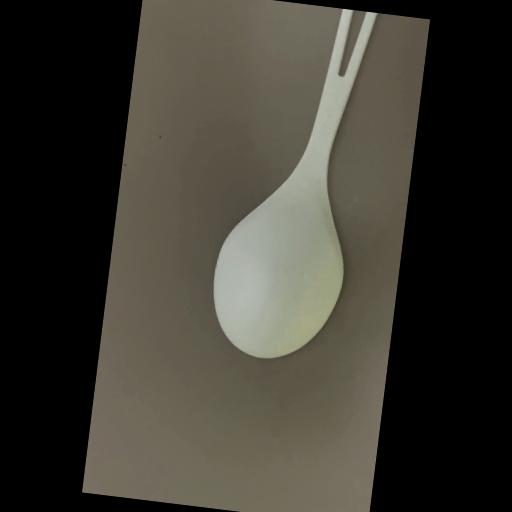utensil: (198, 0, 384, 371)
